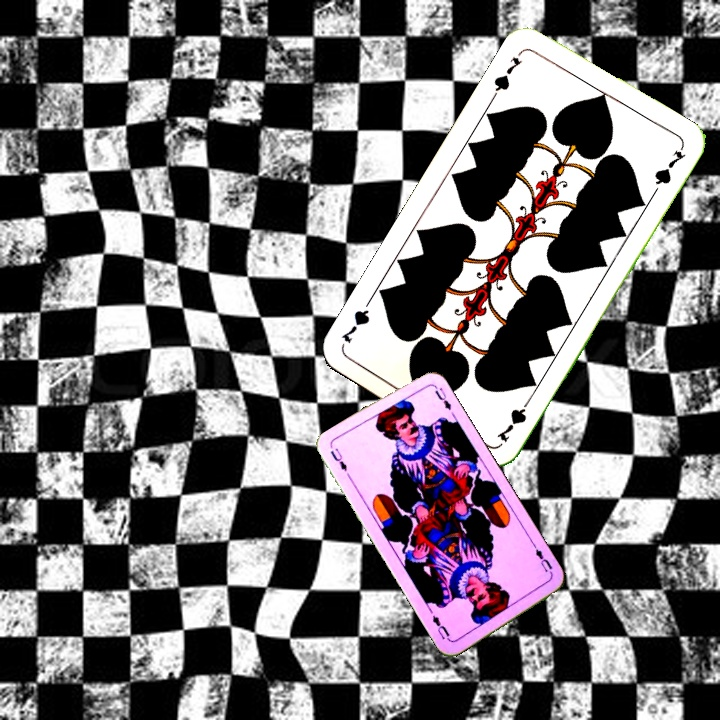EU: (530, 541, 556, 579), (326, 444, 350, 474)
G7: (493, 392, 535, 445), (489, 52, 525, 100)
